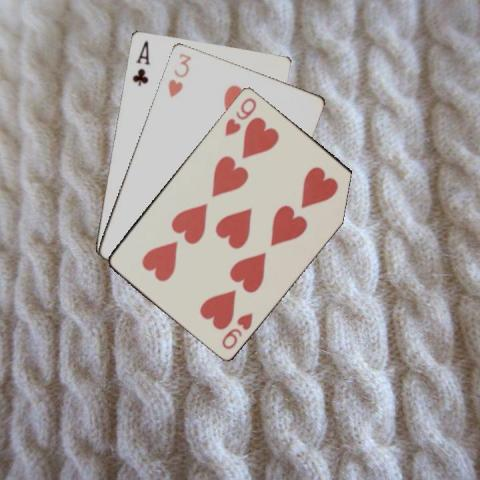3h: (164, 50, 192, 99)
9h: (221, 94, 258, 137), (219, 308, 255, 350)
Ac: (129, 38, 150, 88)
